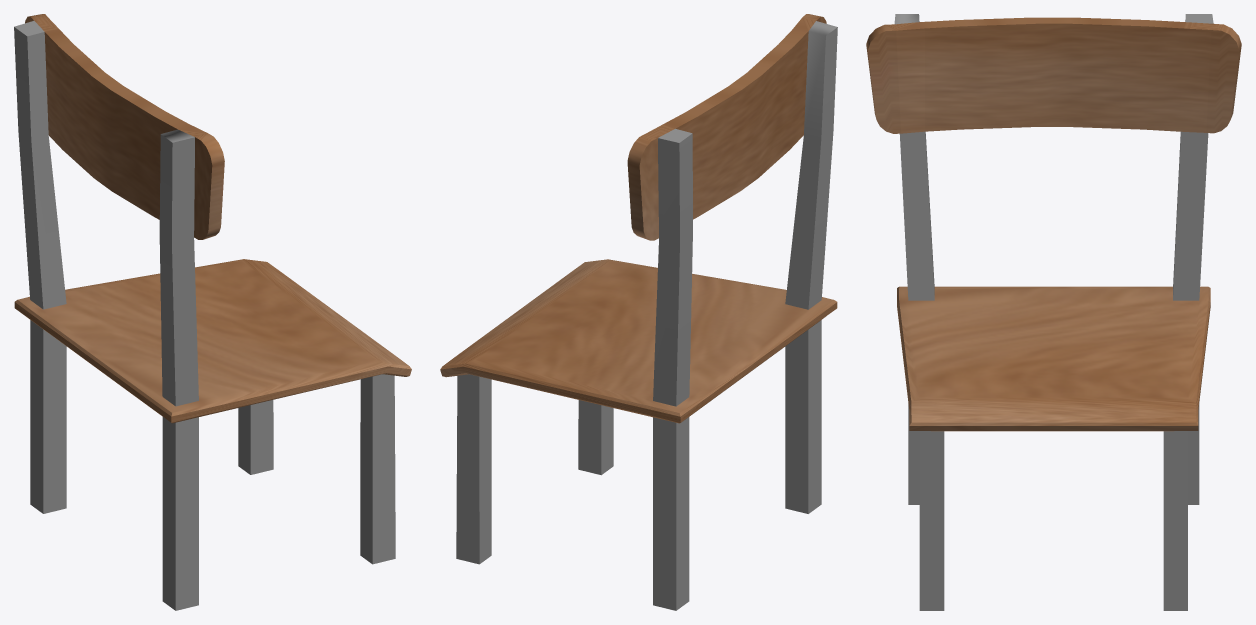
File: Chair.fbx
The picture shows the model from 3 angles, left to right: view 1: azimuth 30°, elevation 25°; view 2: azimuth 150°, elevation 25°; view 3: azimuth 270°, elevation 25°; orthographic projection.
Visible parts, largest first — view 1: Chair; view 2: Chair; view 3: Chair.
Boxes of the visible parts, <box> form: Chair: <box>14,14,411,610</box>; Chair: <box>440,14,837,610</box>; Chair: <box>866,14,1241,610</box>.
Bounding box in the file's own units: 0.0181 × 0.034 × 0.0239.
